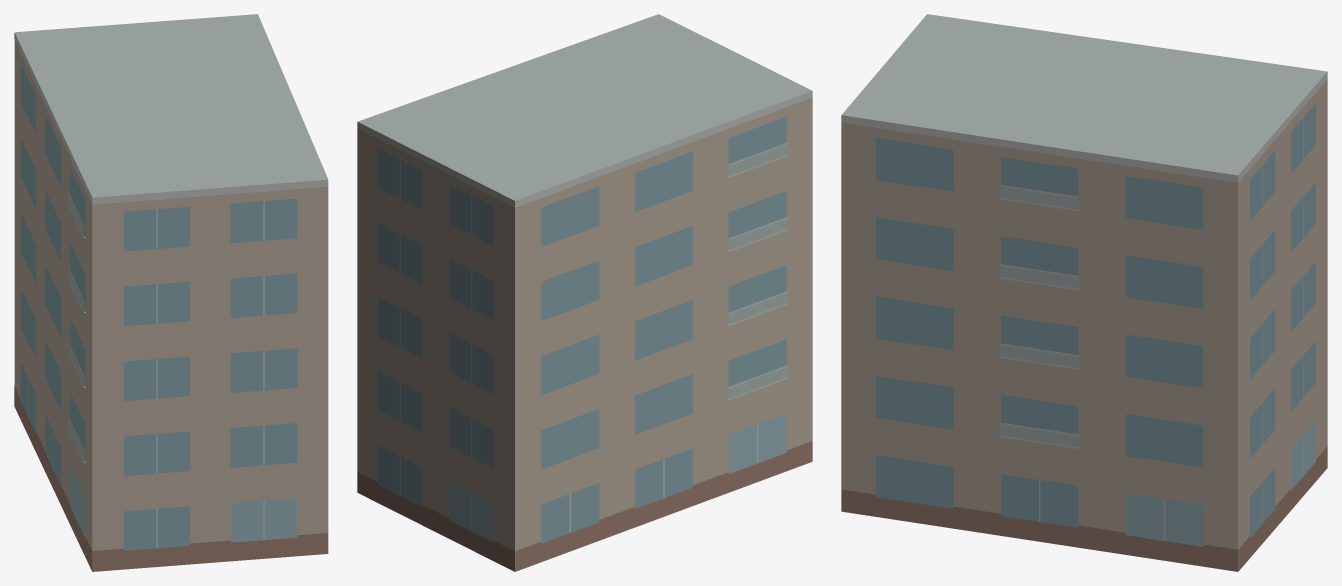
Rendered from survey-upis-32849533.glb.
3 views of the same model, side by side, from view 1: azimuth 30°, elevation 25°; view 2: azimuth 150°, elevation 25°; view 3: azimuth 270°, elevation 25° (orthographic). The views are drawn at different scales.
Parts seen in each view (by area): view 1: survey-upis-32849533.tmp; view 2: survey-upis-32849533.tmp; view 3: survey-upis-32849533.tmp.
Part boxes in pixels (bbox=[...]): survey-upis-32849533.tmp: bbox=[14, 14, 328, 571]; survey-upis-32849533.tmp: bbox=[357, 14, 812, 571]; survey-upis-32849533.tmp: bbox=[841, 14, 1327, 571].
Bounding box in the file's own units: 11.37 × 13 × 14.46.
